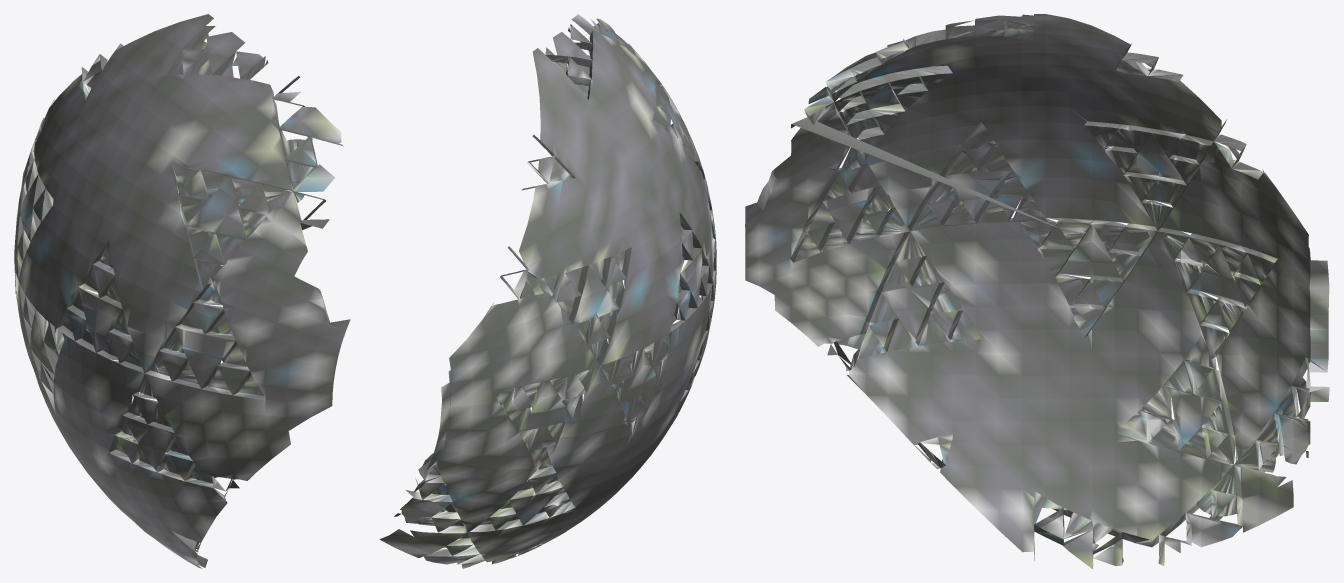
3 renders of one model, left to right at view 1: azimuth 30°, elevation 25°; view 2: azimuth 150°, elevation 25°; view 3: azimuth 270°, elevation 25°, orthographic. The views are drawn at different scales.
Size of the model in its own units: 0.3171 by 0.8292 by 0.7931.
